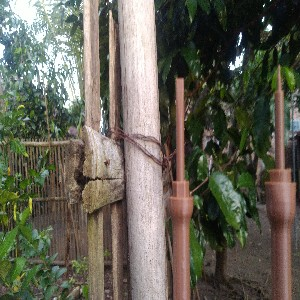obeng: (168, 77, 194, 300)
solder: (262, 62, 297, 300)
